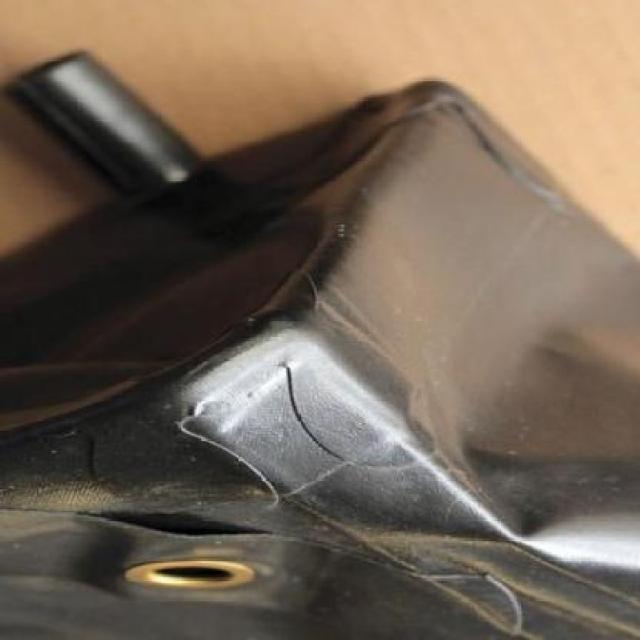crack: (267, 360, 356, 471)
